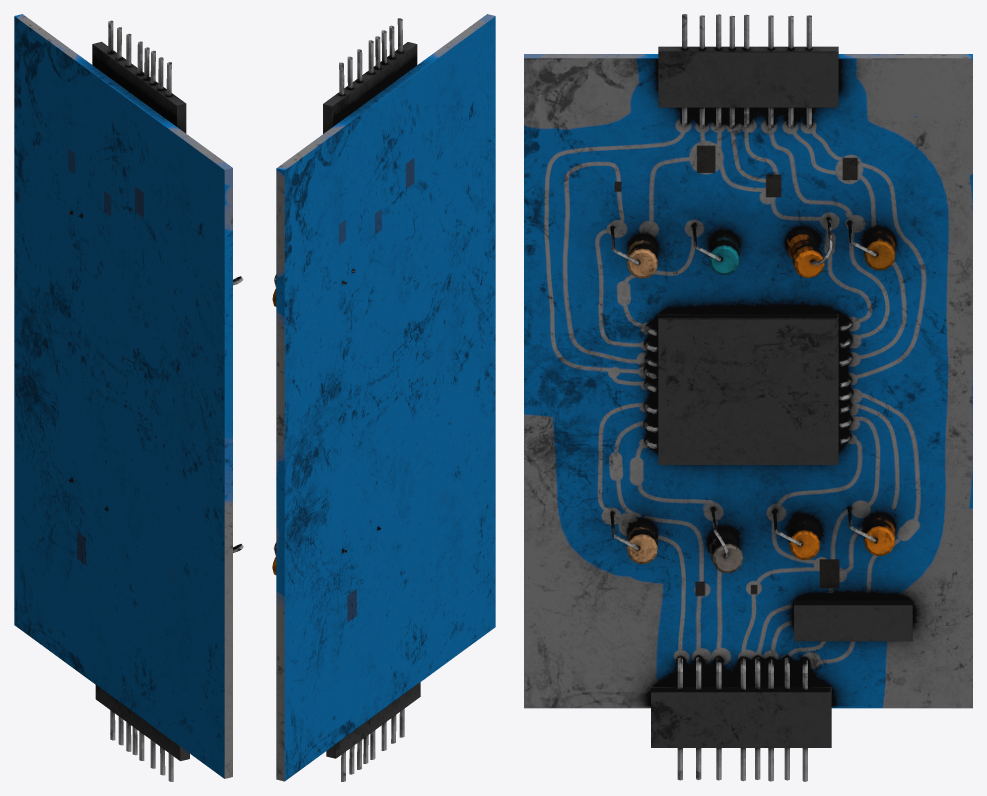
Rendered from electronic_board_blue.glb.
3 views of the same model, side by side, from view 1: azimuth 30°, elevation 25°; view 2: azimuth 150°, elevation 25°; view 3: azimuth 270°, elevation 25° (orthographic). The views are drawn at different scales.
Visible parts, largest first — view 1: Object_2; view 2: Object_2; view 3: Object_2.
Part boxes in pixels (bbox=[...]): Object_2: bbox=[14, 14, 243, 781]; Object_2: bbox=[272, 14, 495, 781]; Object_2: bbox=[524, 14, 972, 781].
Size of the model in its own units: 0.2416 by 2.36 by 1.25.
1 material, 1 textured.
